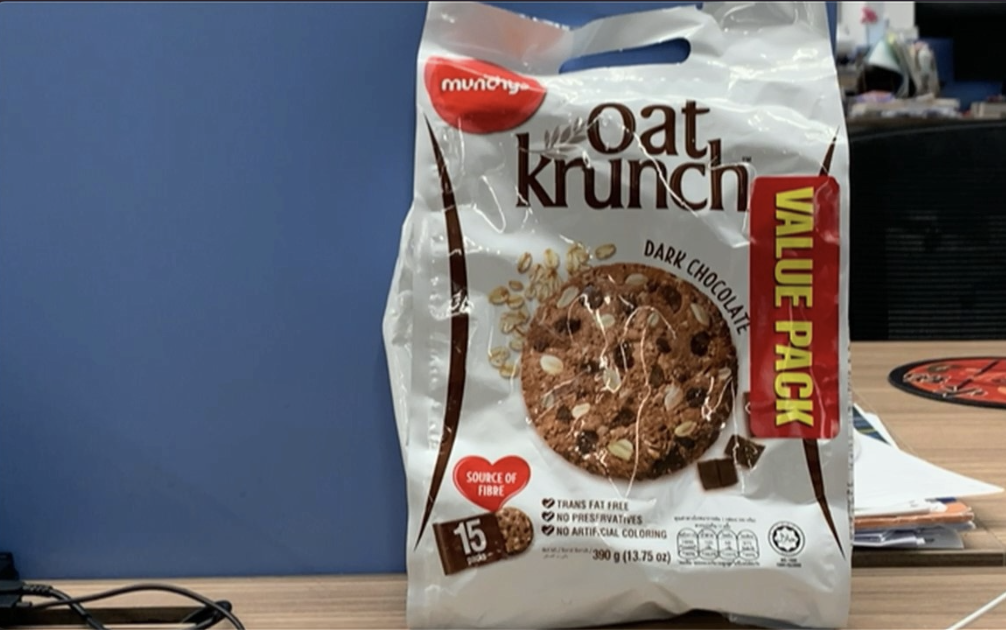cookies_300g-399g: (438, 73, 832, 583)
